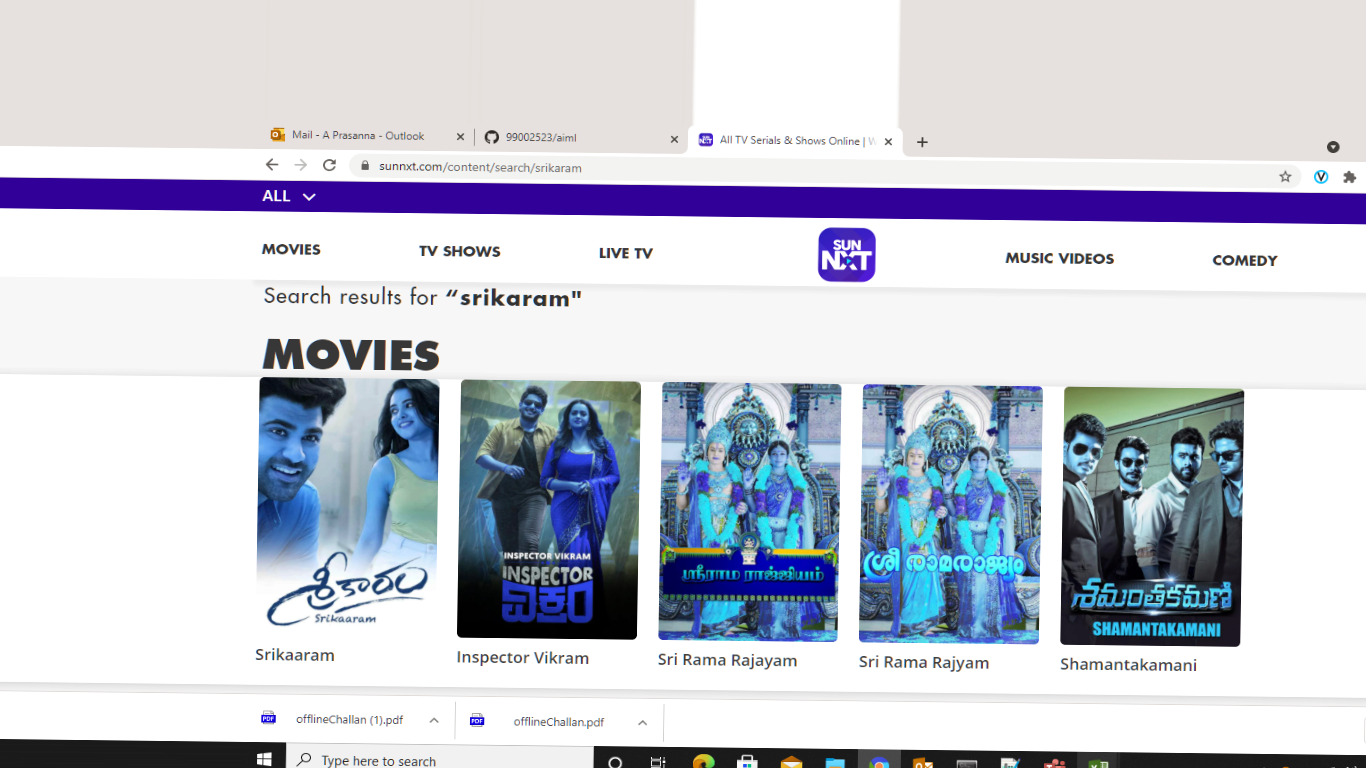resultsfound: (257, 275, 612, 330)
